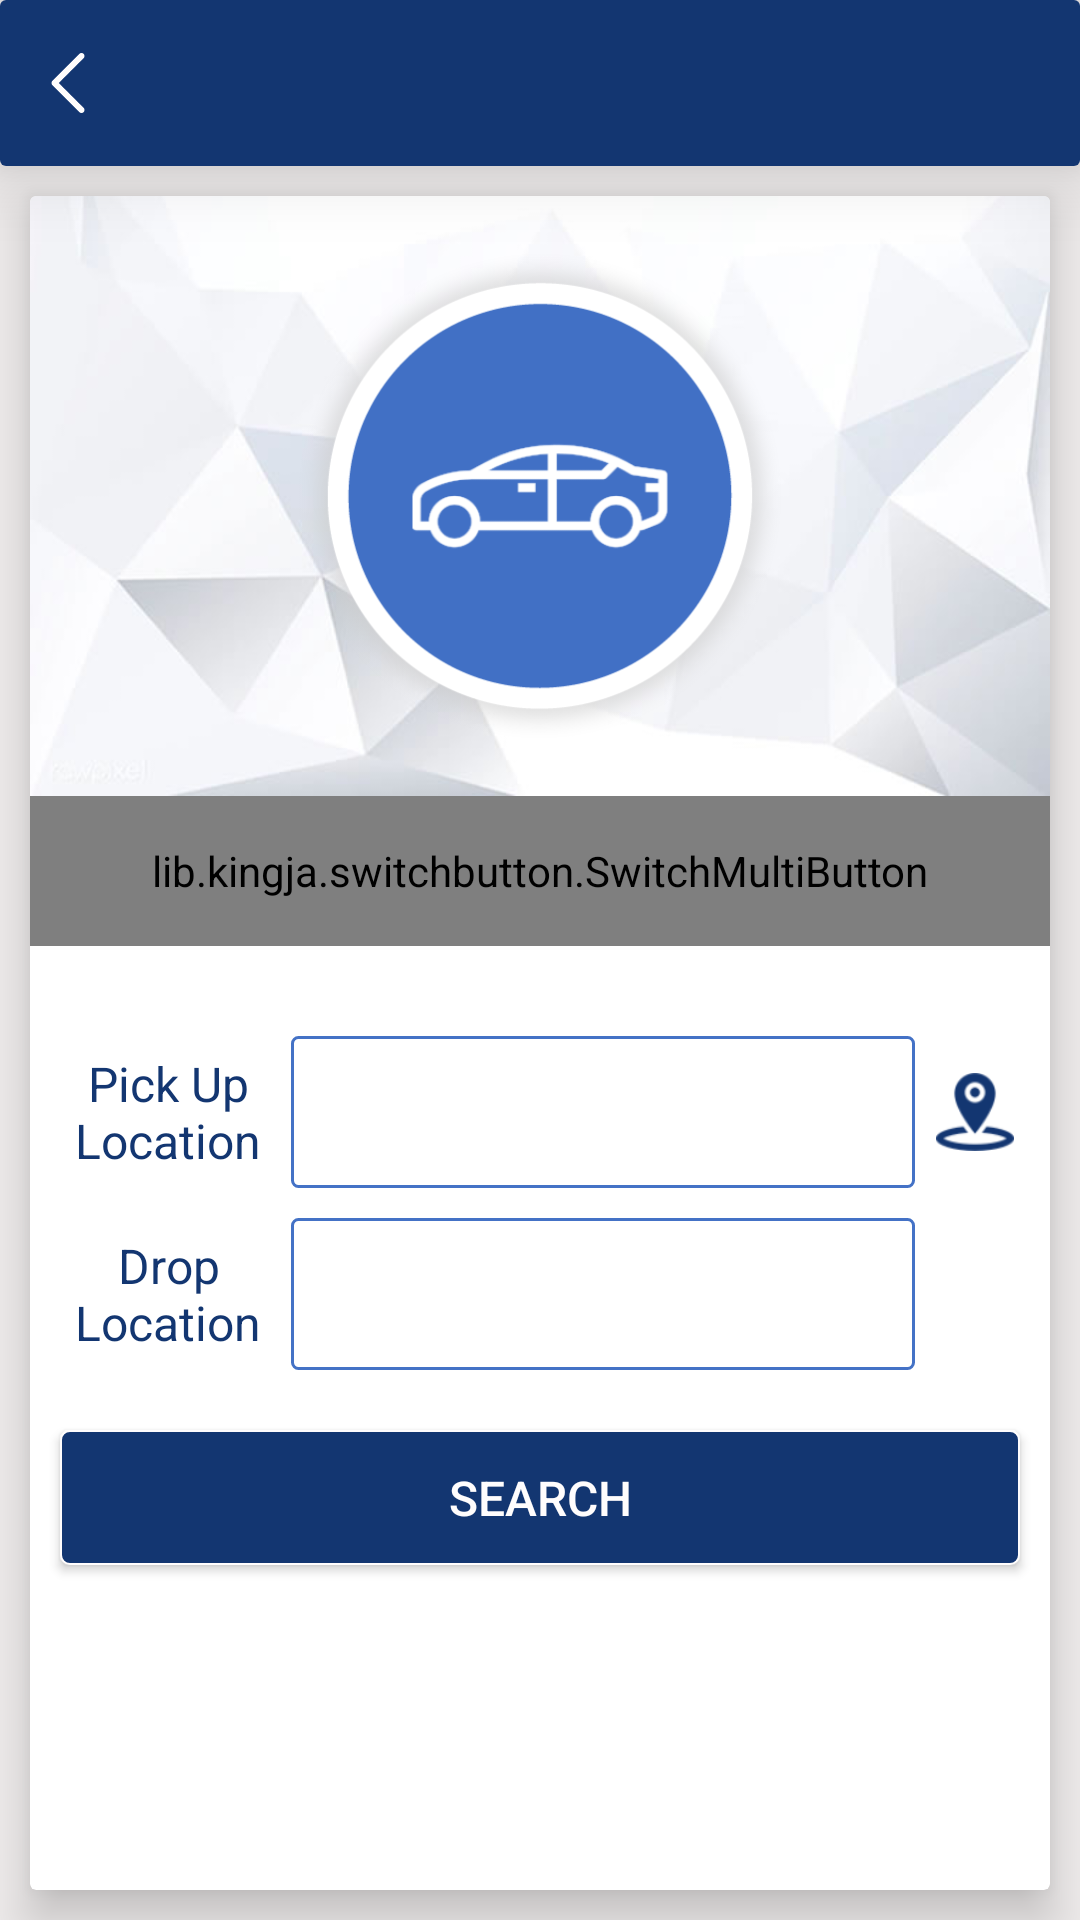

Icon bounding boxes for this 1080 x 1920 phone screenshot, format (x1, y1, x2, y2):
location: (936, 1073, 1014, 1151)
